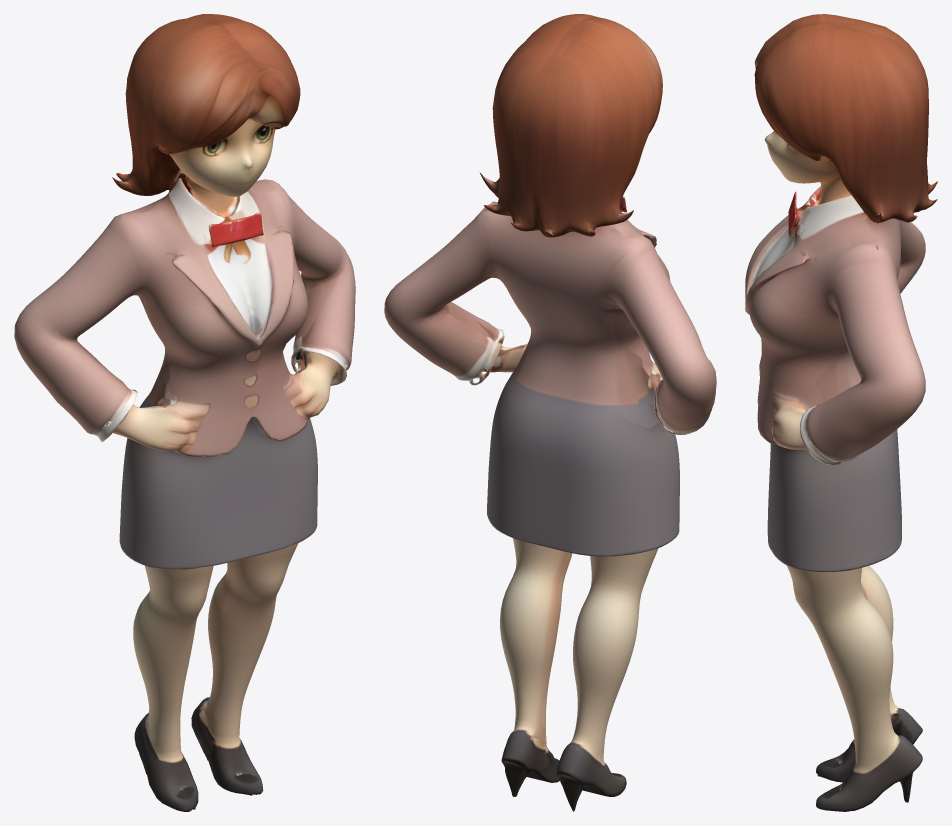
File: Teacher 2.fbx
The picture shows the model from 3 angles, left to right: view 1: azimuth 30°, elevation 25°; view 2: azimuth 150°, elevation 25°; view 3: azimuth 270°, elevation 25°; orthographic projection. The views are drawn at different scales.
Parts seen in each view (by area): view 1: model; view 2: model; view 3: model.
Part boxes in pixels (x1,y1,x2,y2): model: [14, 14, 355, 811]; model: [384, 14, 716, 811]; model: [745, 14, 937, 811].
Bounding box in the file's own units: 131 × 297 × 67.42.
Materials: 1 (1 with a texture image).
